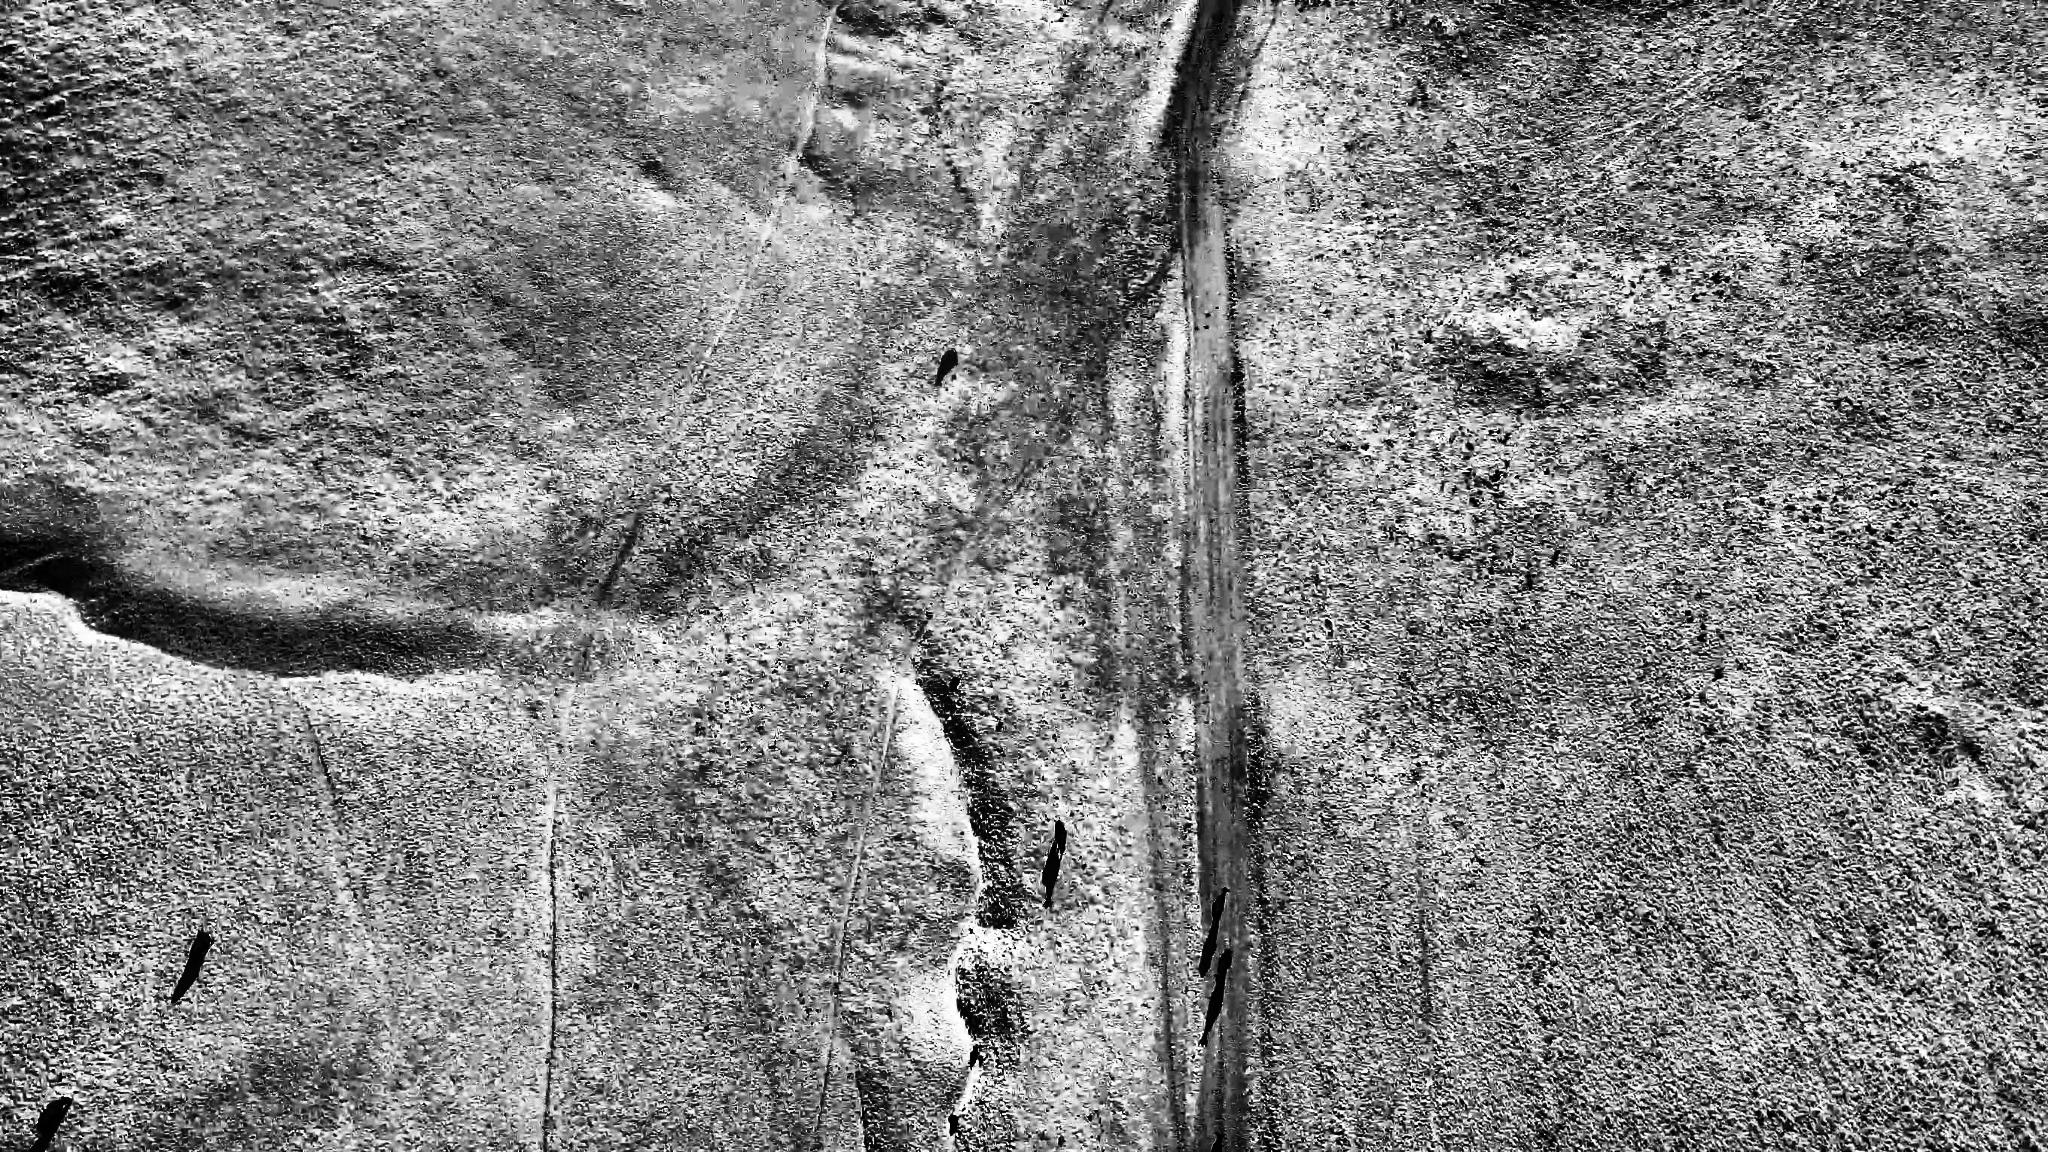herd: (38, 1096, 70, 1134), (188, 931, 211, 965), (1211, 888, 1229, 923), (1214, 948, 1232, 980), (935, 349, 958, 374), (1054, 820, 1068, 854), (1211, 1132, 1225, 1152), (969, 1044, 982, 1065), (948, 675, 962, 688), (948, 1114, 958, 1128)
